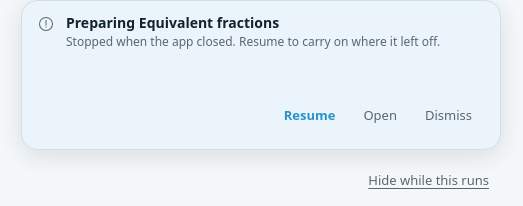
Test: RunningTaskBar › tells the teacher when a resume is refused, and keeps the task for another try
Click the button "Resume".
click(310, 115)  # box left=272, top=93, right=347, bottom=137
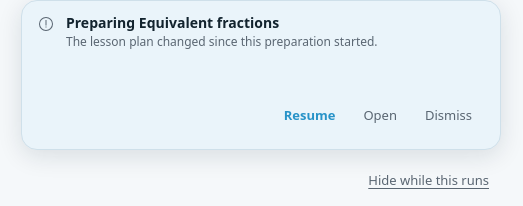
Expected: the text "The lesson plan changed since this preparation started." is shown, left=66, top=33, right=378, bottom=50
